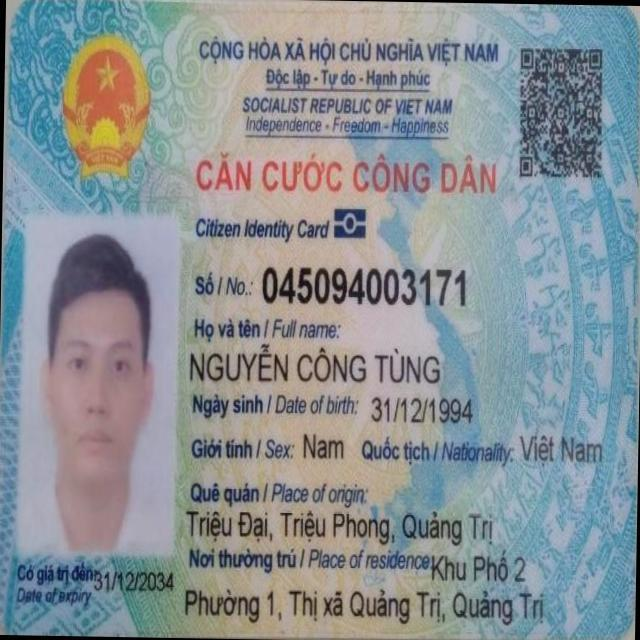current_place: (178, 580, 559, 628), (429, 546, 538, 589)
dob: (364, 389, 480, 431)
expire_date: (90, 562, 178, 597)
gender: (296, 426, 350, 462)
id: (256, 257, 474, 311)
name: (187, 340, 447, 391)
nationality: (517, 425, 615, 468)
origin_place: (185, 505, 509, 547)
